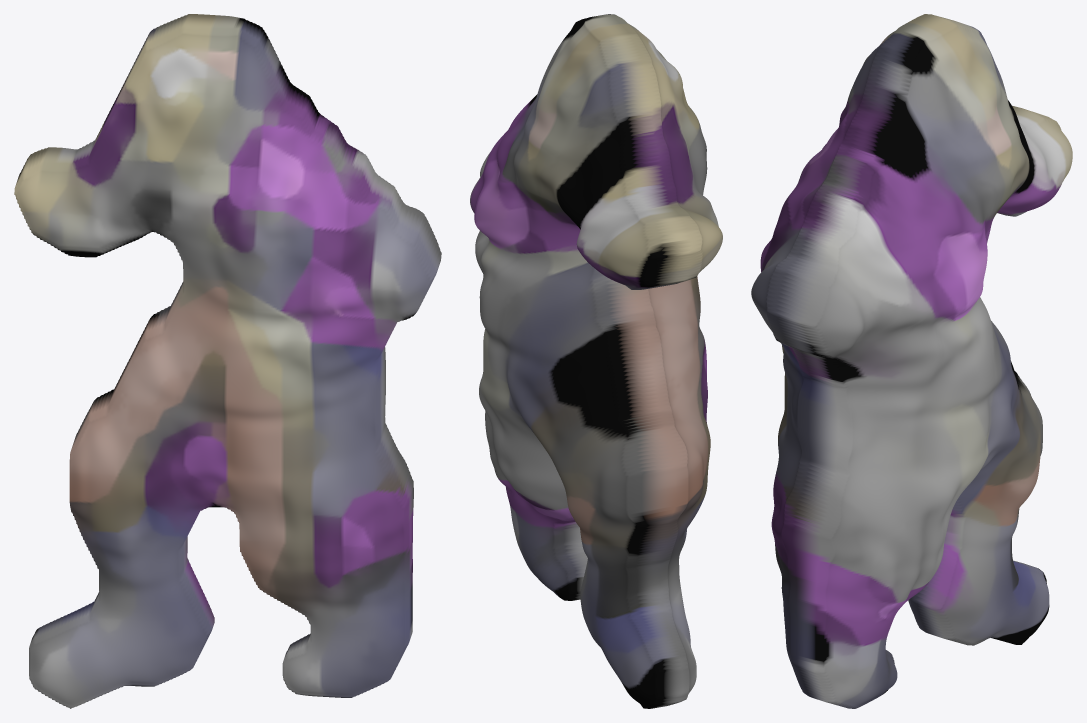
The model's file is yuri_clone.glb.
3 renders of one model, left to right at view 1: azimuth 30°, elevation 25°; view 2: azimuth 150°, elevation 25°; view 3: azimuth 270°, elevation 25°, orthographic. The views are drawn at different scales.
Parts seen in each view (by area): view 1: yuri_clone; view 2: yuri_clone; view 3: yuri_clone.
Boxes of the visible parts, x1,y1,x2,y2 form: yuri_clone: (14, 14, 441, 708); yuri_clone: (470, 14, 722, 708); yuri_clone: (751, 14, 1072, 708).
Size of the model in its own units: 1.11 by 2.23 by 0.9807.
